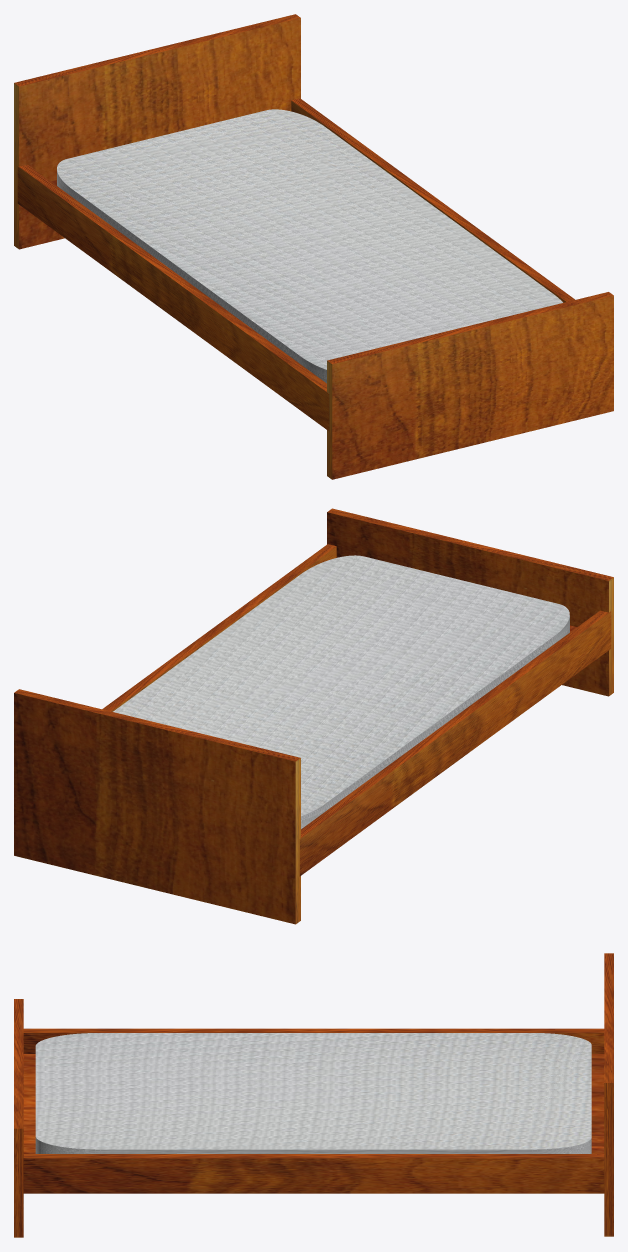
The model's file is krovat.fbx.
3 renders of one model, top to bottom at view 1: azimuth 30°, elevation 25°; view 2: azimuth 150°, elevation 25°; view 3: azimuth 270°, elevation 25°, orthographic. The views are drawn at different scales.
Parts seen in each view (by area): view 1: Cube.003, Cube.001, Cube.002, Cube.005, Cube.004; view 2: Cube.003, Cube.002, Cube.005, Cube.001, Cube.004; view 3: Cube.003, Cube.004, Cube.005, Cube.002, Cube, Cube.001.
Part boxes in pixels (left/top/right/bottom): Cube.003: left=57, top=109, right=562, bottom=383; Cube.001: left=327, top=292, right=613, bottom=479; Cube.002: left=14, top=14, right=300, bottom=249; Cube.005: left=17, top=164, right=329, bottom=431; Cube.004: left=291, top=98, right=575, bottom=302; Cube.003: left=113, top=555, right=569, bottom=828; Cube.002: left=14, top=689, right=300, bottom=924; Cube.005: left=299, top=610, right=611, bottom=876; Cube.001: left=327, top=508, right=613, bottom=696; Cube.004: left=102, top=544, right=336, bottom=711; Cube.003: left=35, top=1033, right=591, bottom=1153; Cube.004: left=23, top=1154, right=604, bottom=1193; Cube.005: left=23, top=1028, right=604, bottom=1053; Cube.002: left=604, top=953, right=613, bottom=1236; Cube: left=23, top=1054, right=604, bottom=1153; Cube.001: left=14, top=999, right=23, bottom=1237.
Size of the model in its own units: 641 by 356 by 1252.
